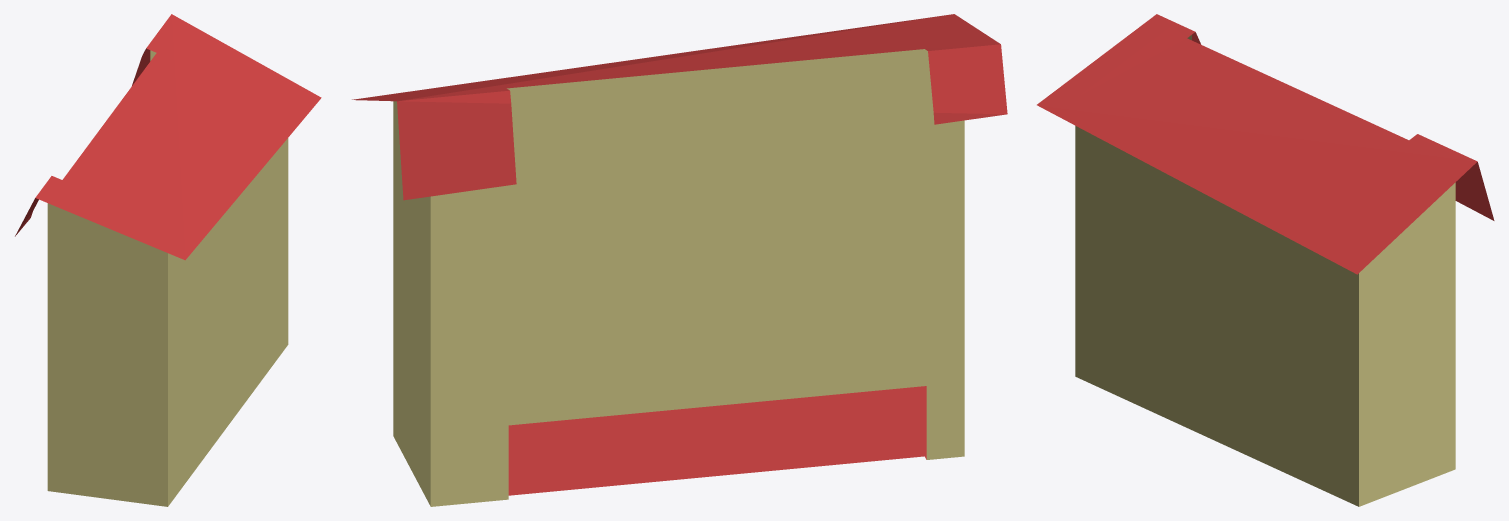
3 renders of one model, left to right at view 1: azimuth 30°, elevation 25°; view 2: azimuth 150°, elevation 25°; view 3: azimuth 270°, elevation 25°, orthographic. The views are drawn at different scales.
Visible parts, largest first — view 1: group_5, group_3; view 2: group_5, group_6, group_3, group_4; view 3: group_5, group_3.
Part boxes in pixels (x1,y1,x2,y2): group_5: (47,50,288,506); group_3: (15,14,321,260); group_5: (393,49,964,506); group_6: (508,386,926,495); group_3: (352,14,1007,200); group_4: (401,45,1006,199); group_5: (1075,35,1455,506); group_3: (1037,14,1494,274).
Size of the model in its own units: 12.91 by 12.45 by 9.45.
